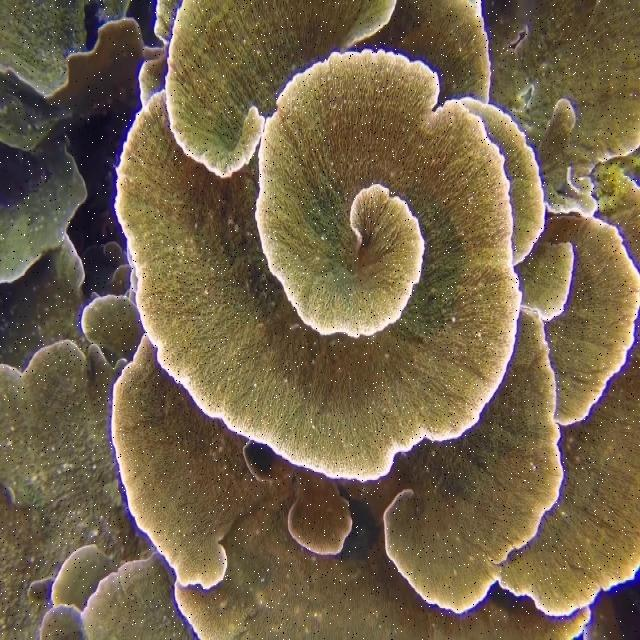reefs: (113, 1, 639, 638), (0, 291, 195, 638), (1, 137, 130, 359), (0, 2, 164, 149)
